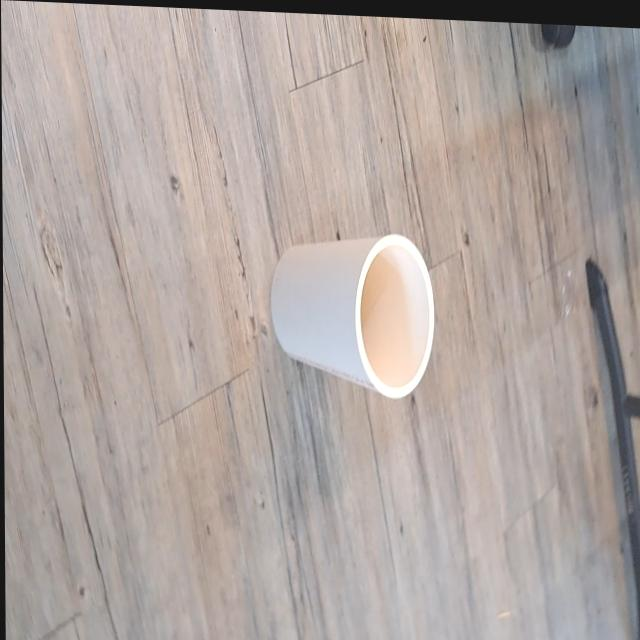CORAL: (261, 193, 451, 457)
